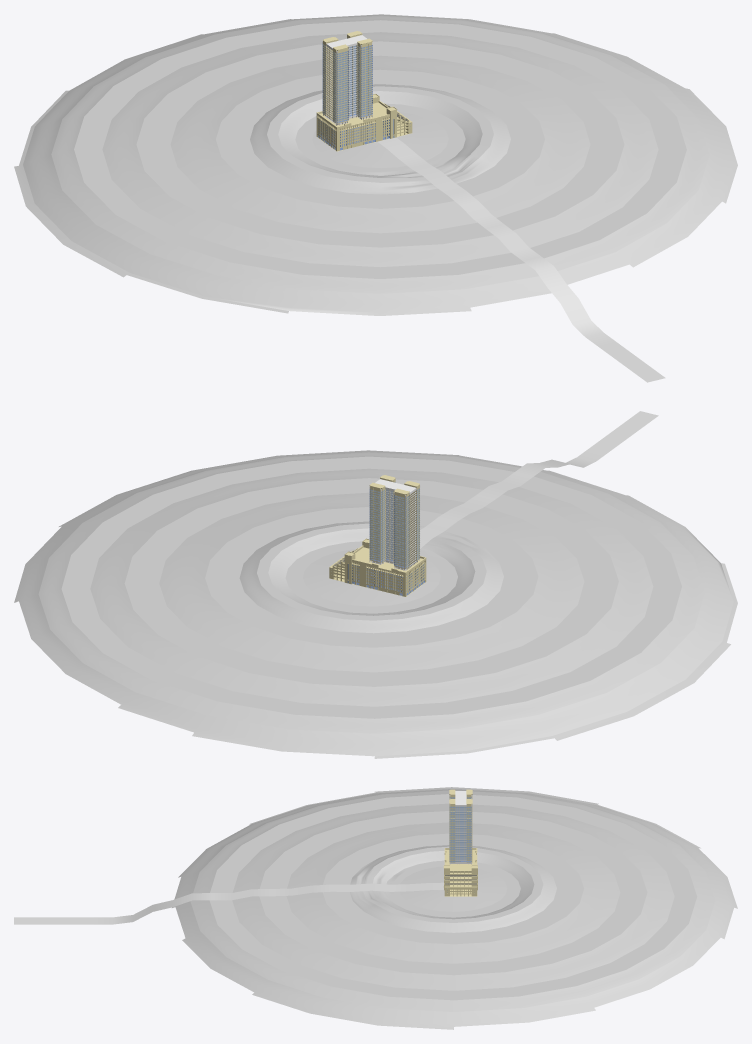
The model's file is Alkuskene_Hospital.fbx.
3 renders of one model, top to bottom at view 1: azimuth 30°, elevation 25°; view 2: azimuth 150°, elevation 25°; view 3: azimuth 270°, elevation 25°, orthographic. The views are drawn at different scales.
Parts seen in each view (by area): view 1: Line001, Rakennus, Plane001; view 2: Line001, Rakennus, Plane001; view 3: Line001, Plane001, Rakennus.
Boxes of the visible parts, x1=… form: Line001: x1=14, y1=14, x2=737, y2=315; Rakennus: x1=316, y1=31, x2=412, y2=151; Plane001: x1=378, y1=137, x2=665, y2=382; Line001: x1=14, y1=450, x2=737, y2=758; Rakennus: x1=329, y1=475, x2=426, y2=596; Plane001: x1=373, y1=411, x2=658, y2=572; Line001: x1=172, y1=787, x2=737, y2=1029; Plane001: x1=14, y1=882, x2=443, y2=924; Rakennus: x1=443, y1=789, x2=477, y2=896.
Size of the model in its own units: 127708 by 27563 by 160061.
